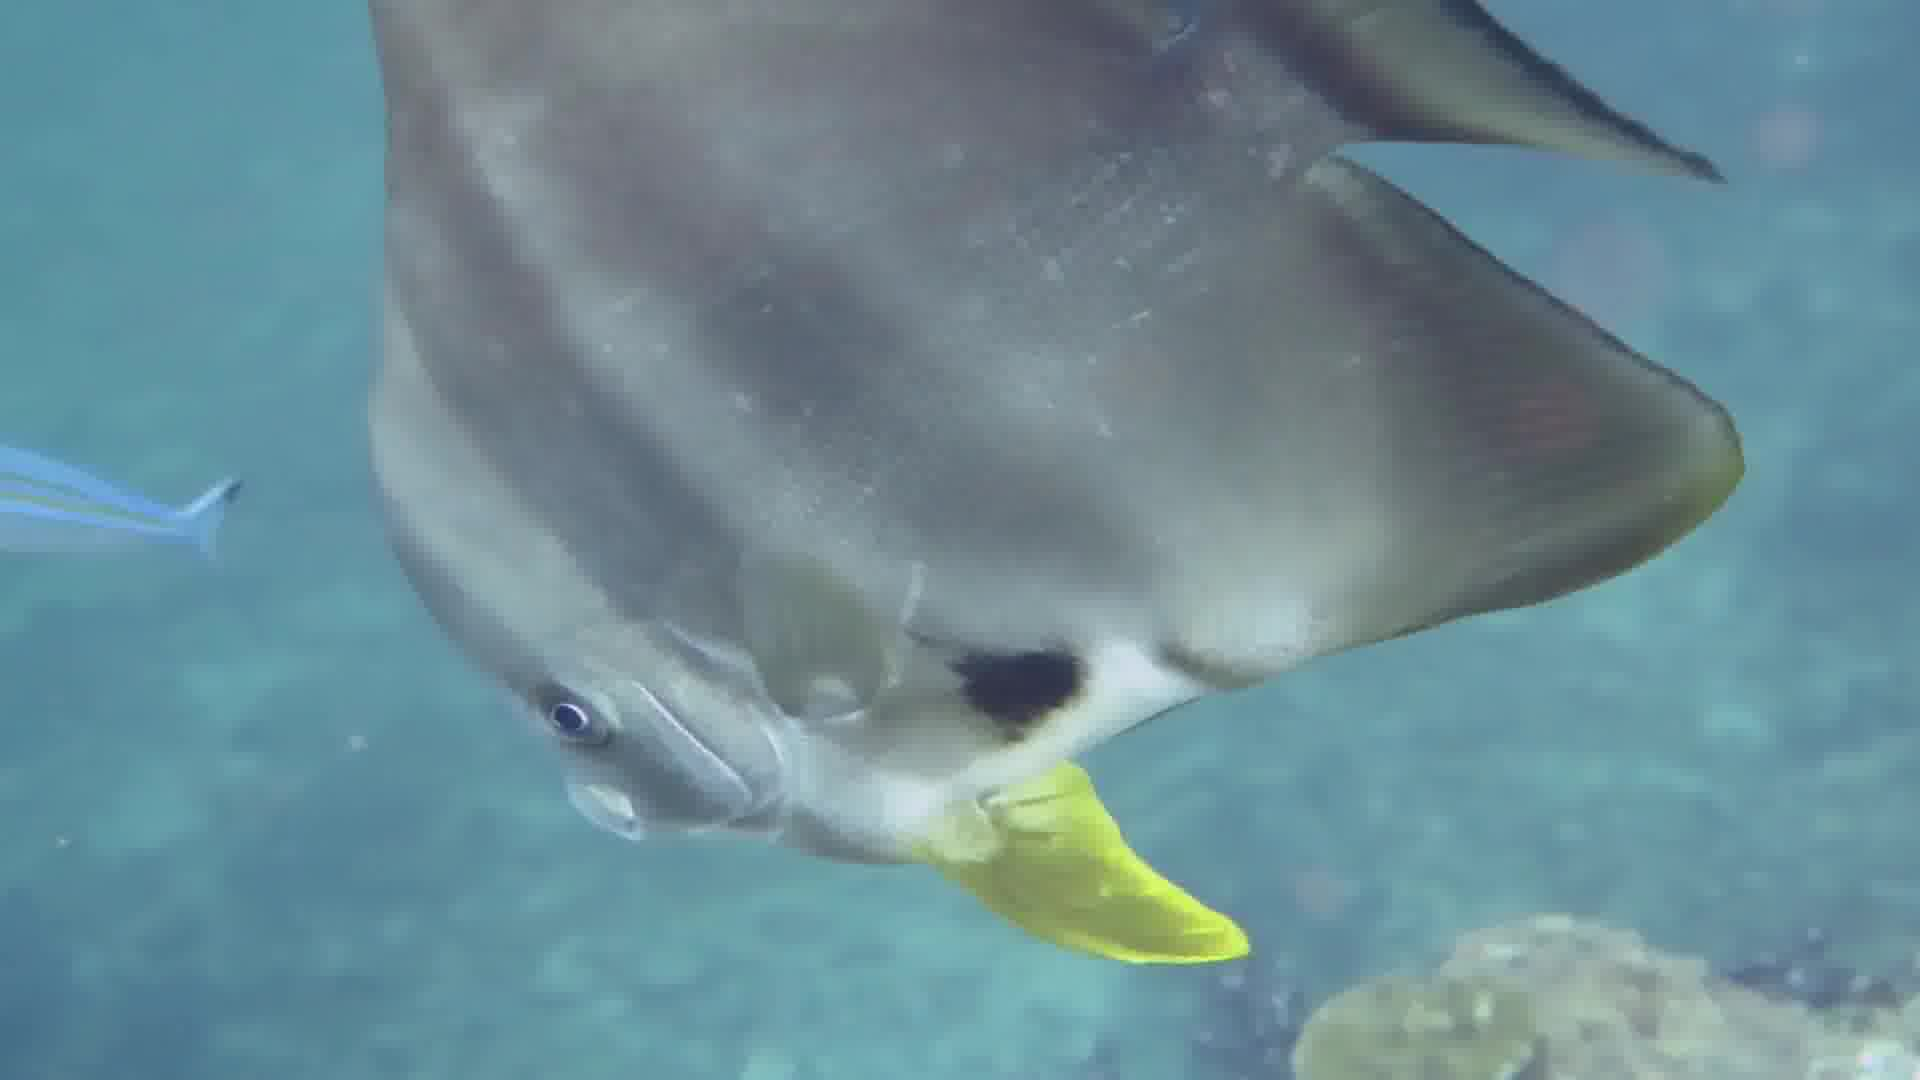Platax teira: (320, 1, 1783, 1030)
